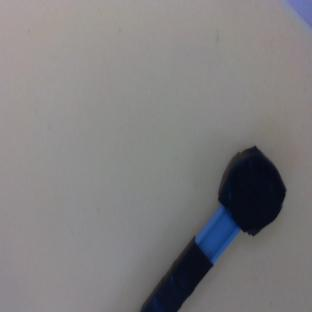part_3_bad: (130, 139, 303, 312)
